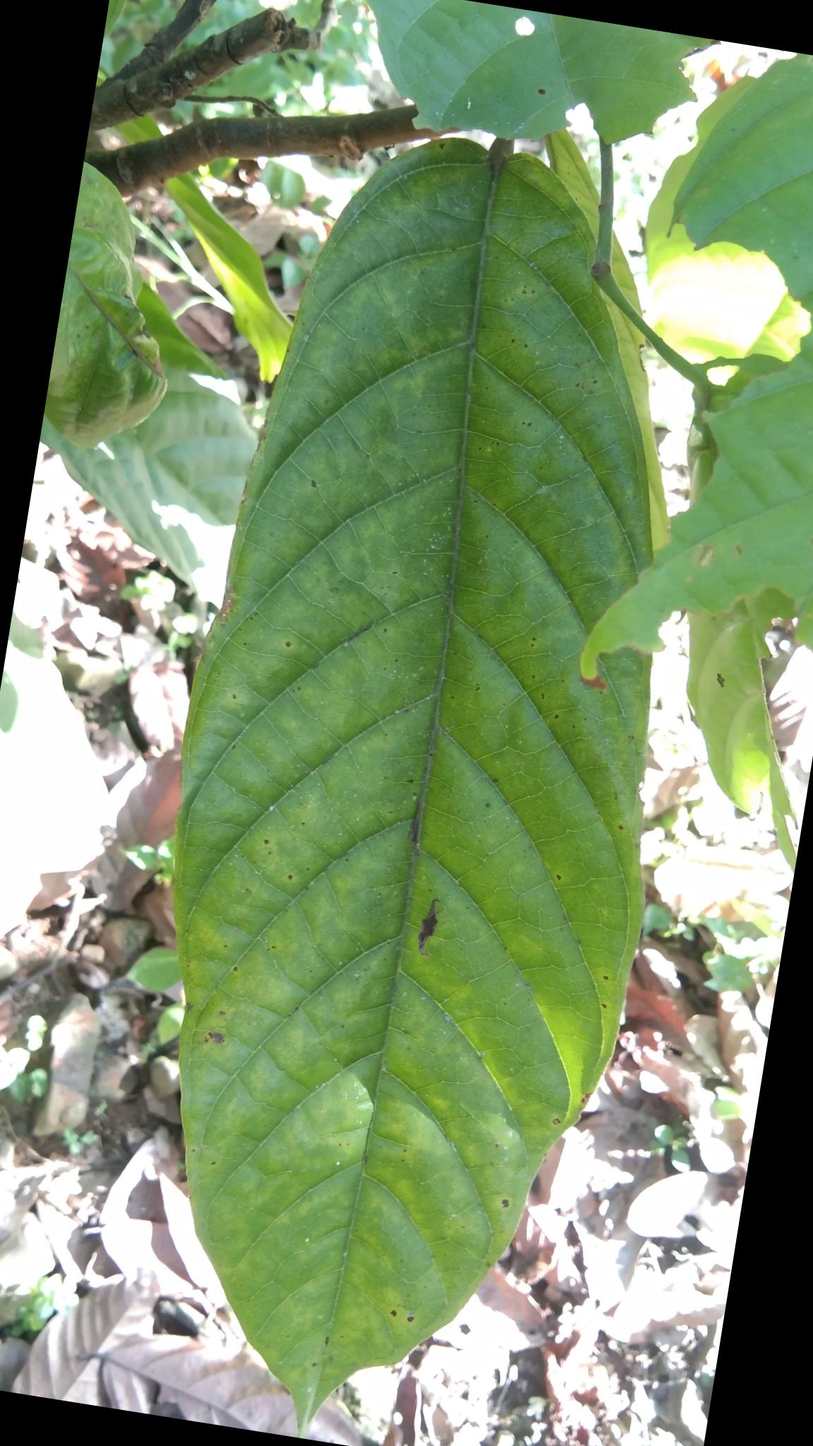Fosforo: (187, 129, 662, 1420)
